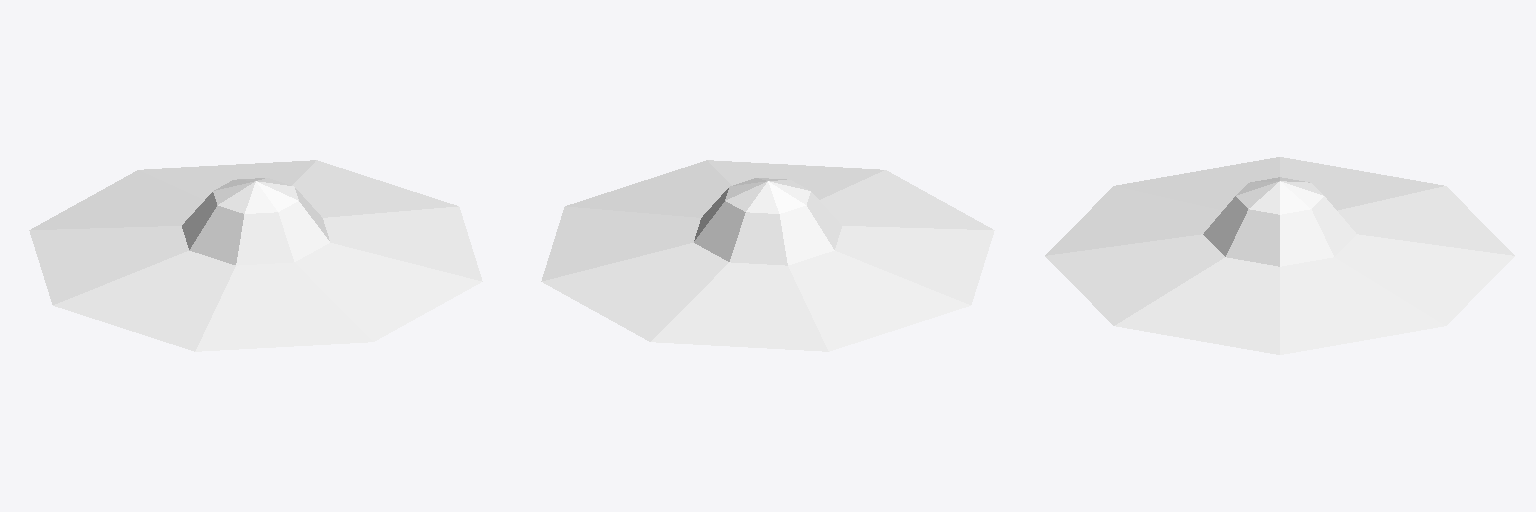
File: acs41.obj
3 views of the same model, side by side, from view 1: azimuth 30°, elevation 25°; view 2: azimuth 150°, elevation 25°; view 3: azimuth 270°, elevation 25° (orthographic).
Parts seen in each view (by area): view 1: frm-mine; view 2: frm-mine; view 3: frm-mine.
Boxes of the visible parts, x1=… form: frm-mine: x1=29, y1=160, x2=482, y2=351; frm-mine: x1=541, y1=160, x2=994, y2=351; frm-mine: x1=1045, y1=157, x2=1514, y2=354.
Size of the model in its own units: 5.3 by 1.86 by 5.32.